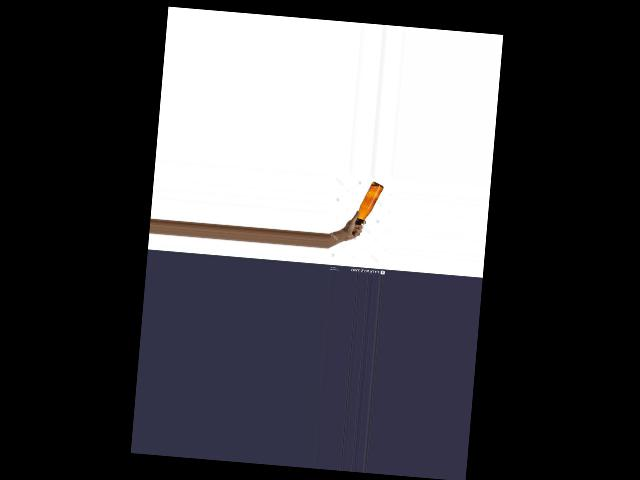beer: (352, 179, 383, 236)
